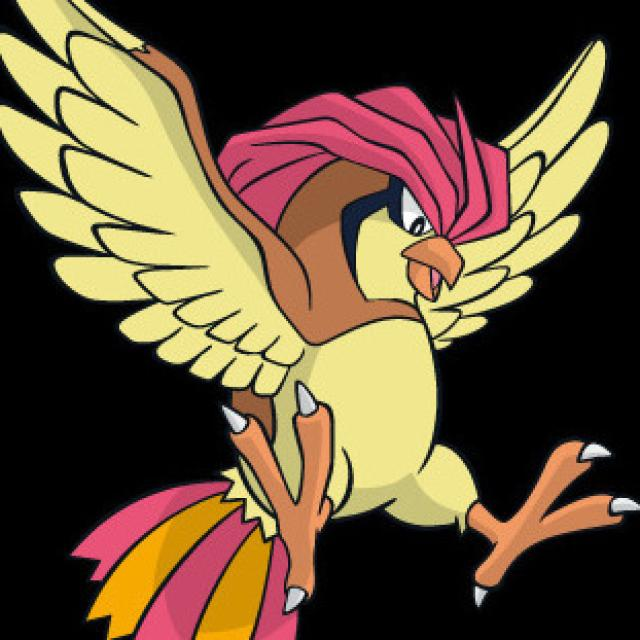Pidgeotto: (113, 66, 524, 575)
